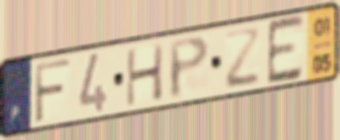4: (77, 50, 109, 116)
E: (265, 12, 306, 89)
F: (33, 56, 73, 126)
H: (125, 41, 166, 109)
P: (167, 33, 212, 102)
Z: (223, 26, 262, 92)
